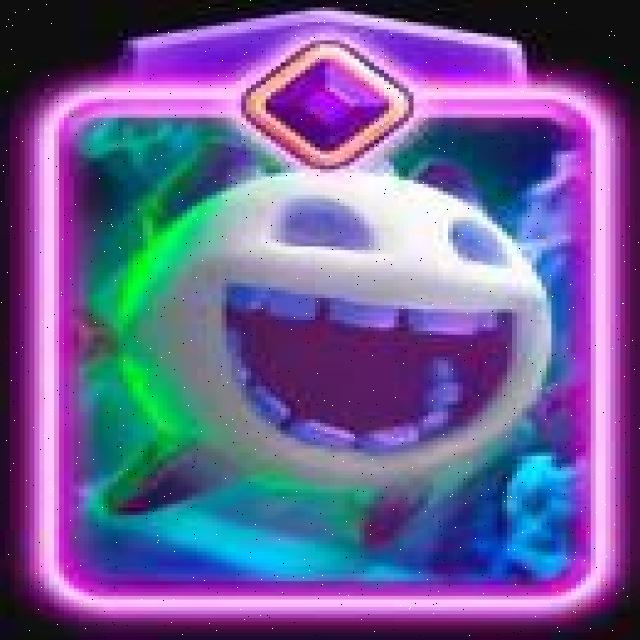Evolved_Ice_Spirit: (47, 87, 619, 611)
